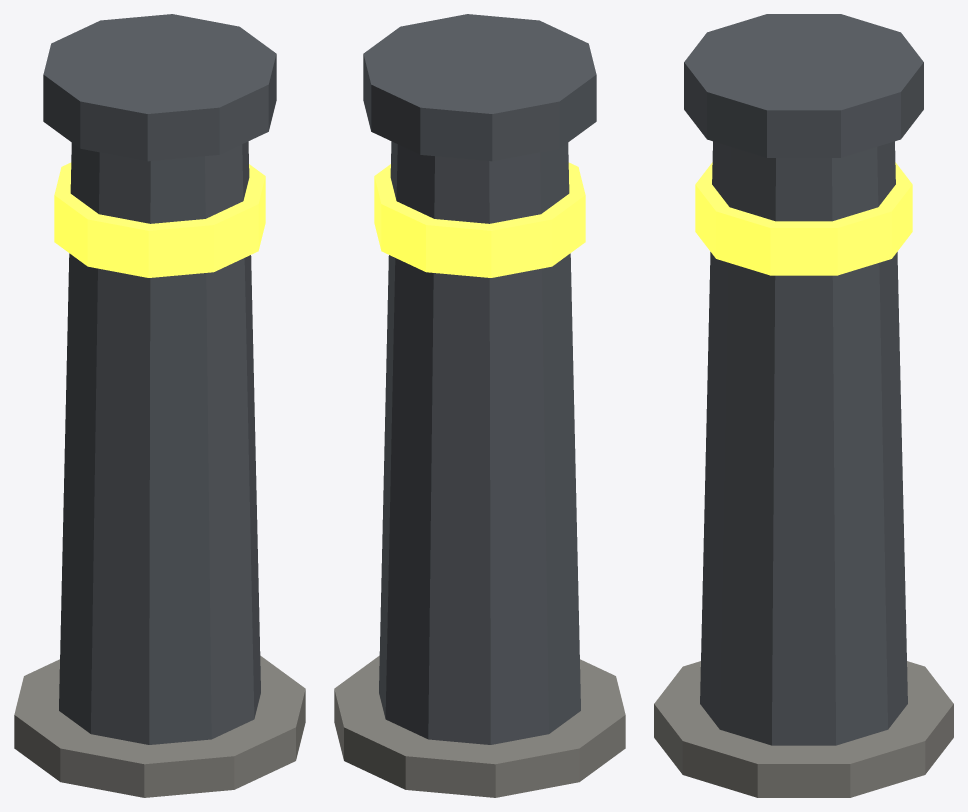
Rendered from VG_Bollard.fbx.
The picture shows the model from 3 angles, left to right: view 1: azimuth 30°, elevation 25°; view 2: azimuth 150°, elevation 25°; view 3: azimuth 270°, elevation 25°; orthographic projection.
Visible parts, largest first — view 1: VG_Bollard_Mesh; view 2: VG_Bollard_Mesh; view 3: VG_Bollard_Mesh.
Part boxes in pixels (x1,y1,x2,y2): VG_Bollard_Mesh: [14, 14, 305, 797]; VG_Bollard_Mesh: [334, 14, 625, 797]; VG_Bollard_Mesh: [654, 14, 953, 797].
Size of the model in its own units: 0.3804 by 1 by 0.4.
